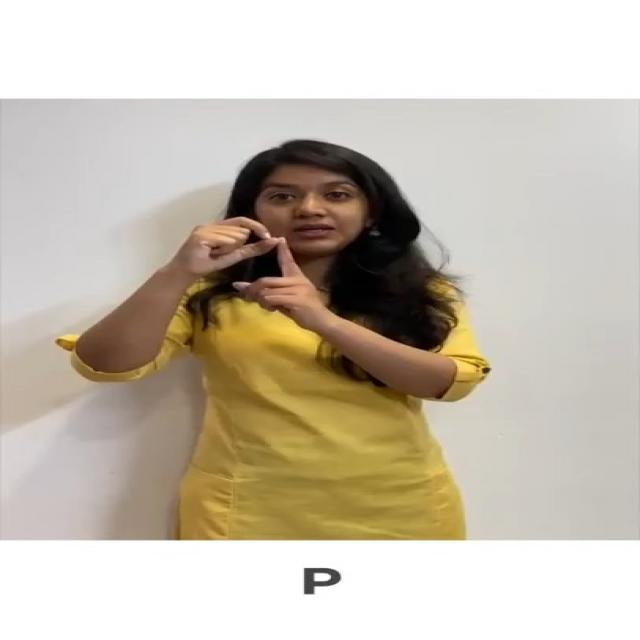P: (160, 214, 336, 339)
